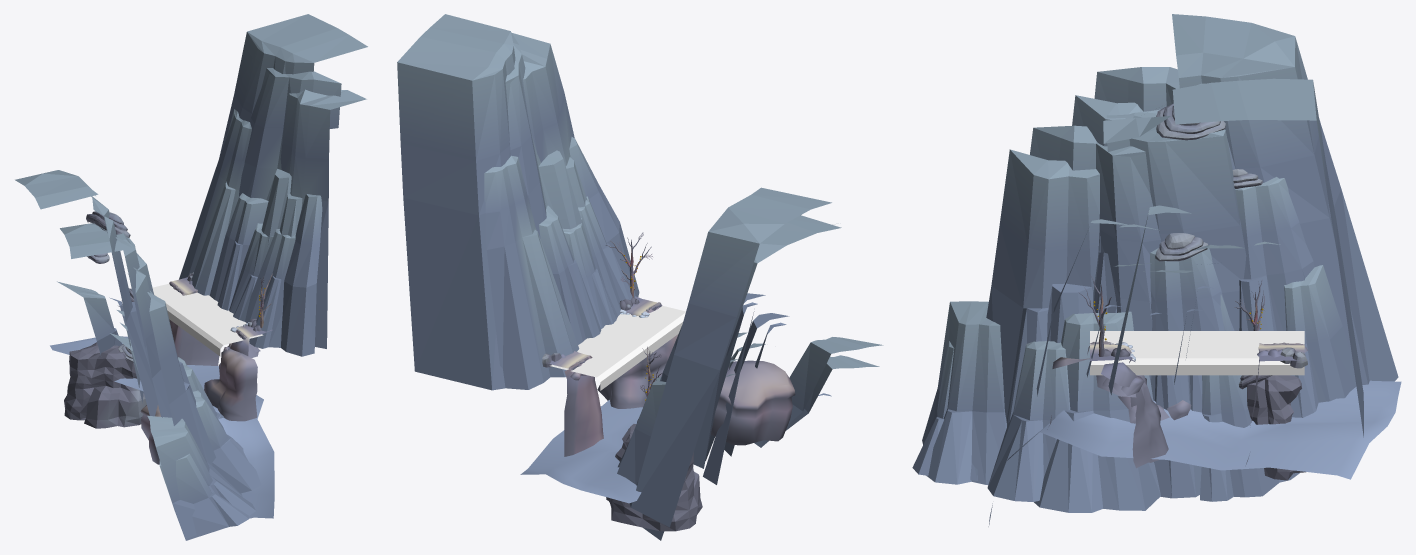
File: Arctic_Narrows_Left_Jump_A.glb
The picture shows the model from 3 angles, left to right: view 1: azimuth 30°, elevation 25°; view 2: azimuth 150°, elevation 25°; view 3: azimuth 270°, elevation 25°; orthographic projection. The views are drawn at different scales.
Visible parts, largest first — view 1: Arctic_Narrows_Left_IceWall_A01 (3), Arctic_Narrows_Right_IceWall_A01_Left (×2), Arctic_Narrows_Left_IceWall_A01_Right, Arctic_Narrows_Left_Jump_A, Arctic_Narrows_Right_IceWall_A01 (3), Arctic_Narrows_Left_IceWall_A01_Left, Arctic_Narrows_Right_IceWall_A01 (2), inv_fill, Arctic_Narrows_Left_IceWall_A01_Mid, Arctic_Narrows_Big_Rock_A01, Arctic_Narrows_Big_Rock_A01_Top, Arctic_Narrows_Right_IceWall_A01_Right (+1 smaller); view 2: Arctic_Narrows_Left_IceWall_A01 (3), Arctic_Narrows_Right_IceWall_A01 (2), Arctic_Narrows_Left_Jump_A, Arctic_Narrows_Left_IceWall_A01_Left, Arctic_Narrows_Left_IceWall_A01_Right, inv_fill, Arctic_Narrows_Right_IceWall_A01 (3), Arctic_Narrows_Right_IceWall_A01_Left (×2), Arctic_Narrows_Left_IceWall_A01_Mid, Arctic_Narrows_Right_IceWall_A01_Right, Arctic_Narrows_Big_Rock_A01; view 3: Arctic_Narrows_Right_IceWall_A01 (3), Arctic_Narrows_Right_IceWall_A01_Left (×2), Arctic_Narrows_Right_IceWall_A01 (2), Arctic_Narrows_Left_Jump_A, Arctic_Narrows_Right_IceWall_A01_Mid (×2), Arctic_Narrows_Right_IceWall_A01_Right (×2), Arctic_Narrows_Left_IceWall_A01 (3), inv_fill, Arctic_Narrows_Big_Rock_A01_Top, Arctic_Narrows_Left_IceWall_A01_Right, Arctic_Narrows_Big_Rock_A01_Mid, Arctic_Narrows_Right_Snow_A01 (2) (+1 smaller).
Part boxes in pixels (<box>): Arctic_Narrows_Left_IceWall_A01 (3): <box>219,14,367,348</box>; Arctic_Narrows_Right_IceWall_A01_Left (×2): <box>147,357,261,540</box>; Arctic_Narrows_Left_IceWall_A01_Right: <box>229,194,322,356</box>; Arctic_Narrows_Left_Jump_A: <box>50,277,274,518</box>; Arctic_Narrows_Right_IceWall_A01 (3): <box>60,223,215,465</box>; Arctic_Narrows_Left_IceWall_A01_Left: <box>179,109,251,295</box>; Arctic_Narrows_Right_IceWall_A01 (2): <box>15,170,161,416</box>; inv_fill: <box>152,283,263,356</box>; Arctic_Narrows_Left_IceWall_A01_Mid: <box>209,193,268,310</box>; Arctic_Narrows_Big_Rock_A01: <box>64,390,146,428</box>; Arctic_Narrows_Big_Rock_A01_Top: <box>69,342,136,378</box>; Arctic_Narrows_Right_IceWall_A01_Right: <box>57,281,122,356</box>; Arctic_Narrows_Left_IceWall_A01 (3): <box>397,14,587,390</box>; Arctic_Narrows_Right_IceWall_A01 (2): <box>629,187,831,527</box>; Arctic_Narrows_Left_Jump_A: <box>520,296,795,503</box>; Arctic_Narrows_Left_IceWall_A01_Left: <box>484,155,579,389</box>; Arctic_Narrows_Left_IceWall_A01_Right: <box>562,137,639,328</box>; inv_fill: <box>550,306,685,390</box>; Arctic_Narrows_Right_IceWall_A01 (3): <box>643,215,841,540</box>; Arctic_Narrows_Right_IceWall_A01_Left (×2): <box>728,332,883,447</box>; Arctic_Narrows_Left_IceWall_A01_Mid: <box>539,205,601,344</box>; Arctic_Narrows_Right_IceWall_A01_Right: <box>617,377,665,484</box>; Arctic_Narrows_Big_Rock_A01: <box>606,471,702,531</box>; Arctic_Narrows_Right_IceWall_A01 (3): <box>986,112,1299,482</box>; Arctic_Narrows_Right_IceWall_A01_Left (×2): <box>912,301,1160,512</box>; Arctic_Narrows_Right_IceWall_A01 (2): <box>1072,14,1398,384</box>; Arctic_Narrows_Left_Jump_A: <box>988,343,1401,526</box>; Arctic_Narrows_Right_IceWall_A01_Mid (×2): <box>1144,177,1314,498</box>; Arctic_Narrows_Right_IceWall_A01_Right (×2): <box>1200,265,1356,501</box>; Arctic_Narrows_Left_IceWall_A01 (3): <box>1103,78,1363,437</box>; inv_fill: <box>1090,331,1304,375</box>; Arctic_Narrows_Big_Rock_A01_Top: <box>1247,375,1301,409</box>; Arctic_Narrows_Left_IceWall_A01_Right: <box>1036,219,1221,396</box>; Arctic_Narrows_Big_Rock_A01_Mid: <box>1247,403,1293,424</box>; Arctic_Narrows_Right_Snow_A01 (2): <box>1156,106,1225,140</box>.
Size of what is drawn, in the model's own units: 26.44 by 29.16 by 24.35.
